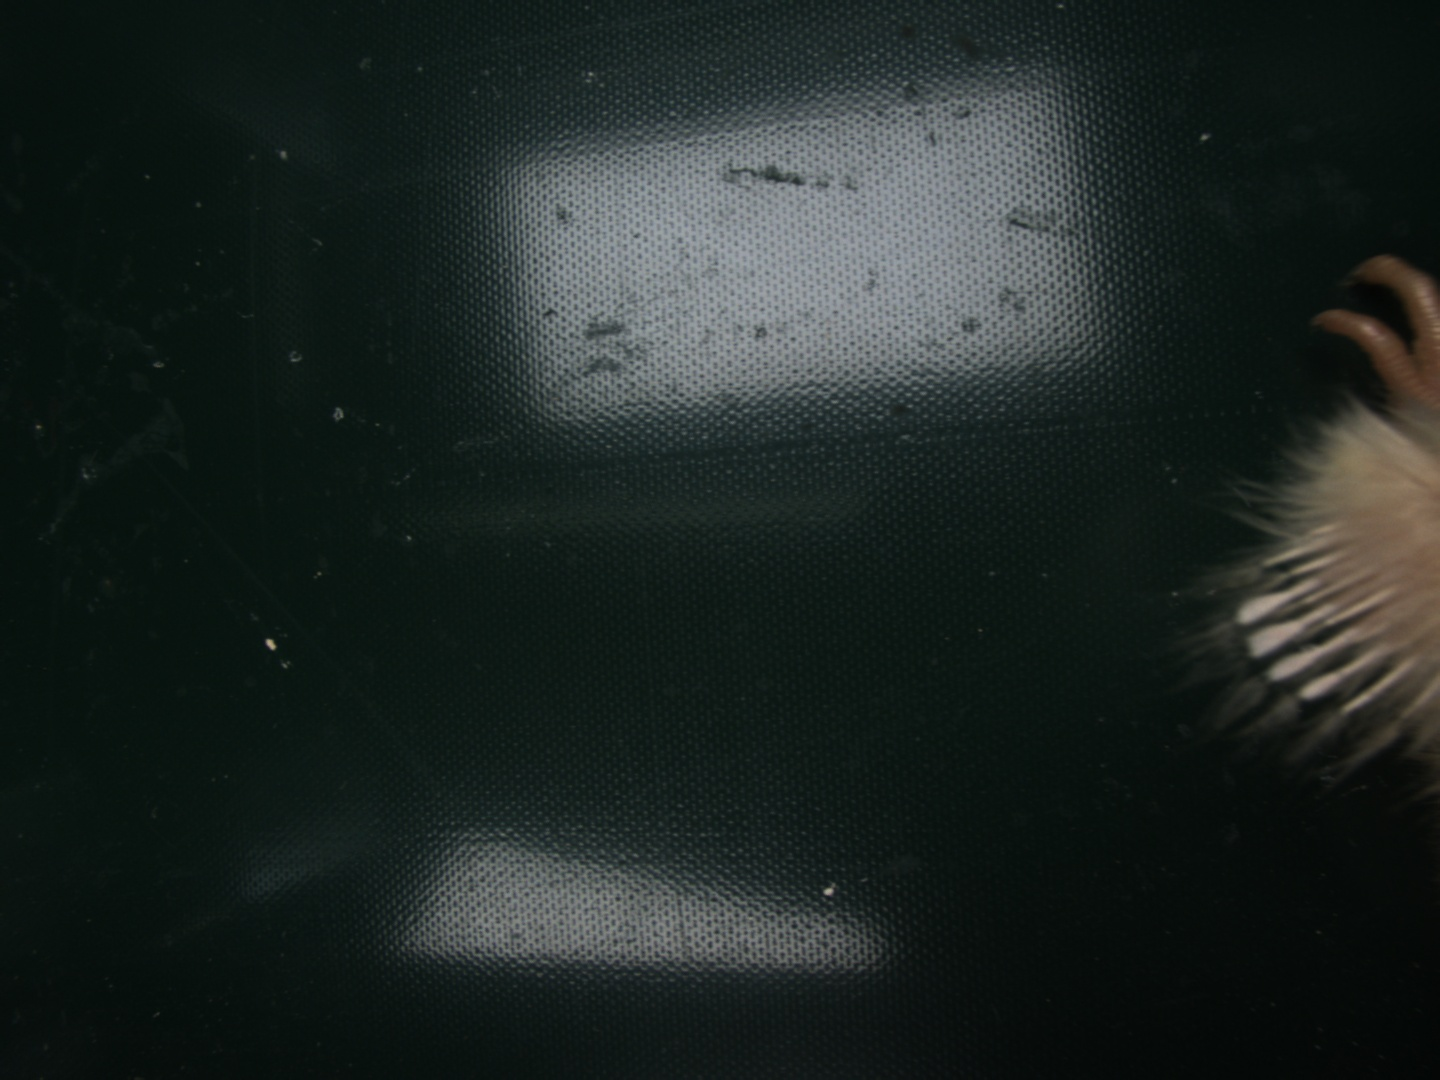female: (1229, 518, 1440, 729)
